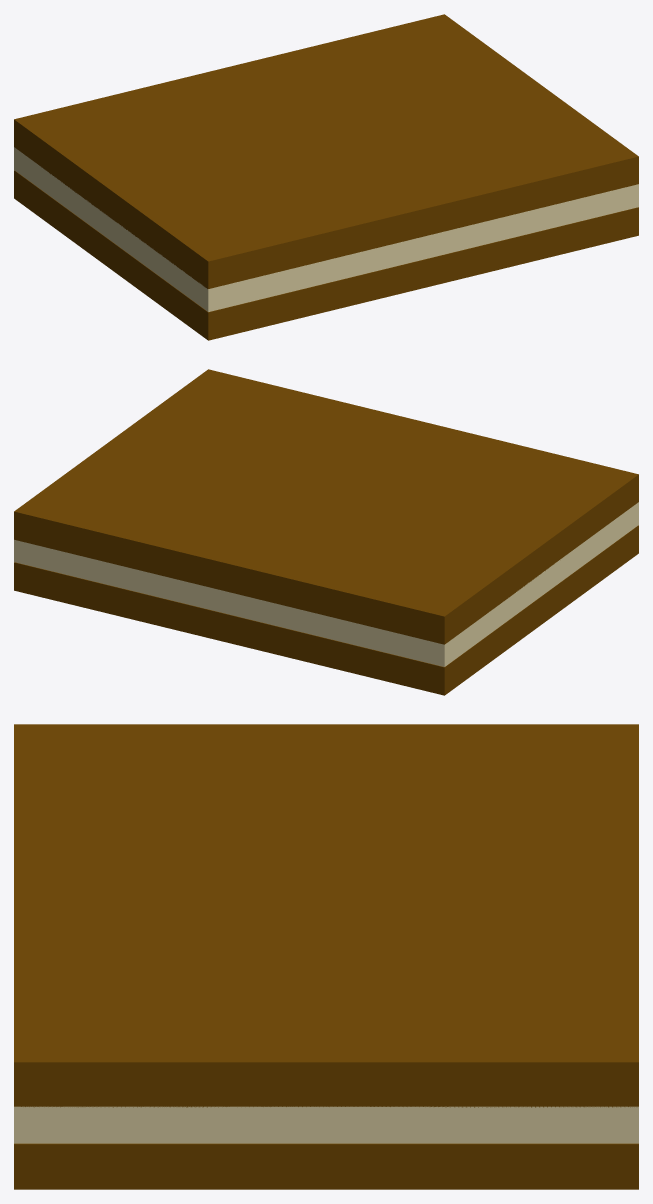
The model's file is book1.glb.
The picture shows the model from 3 angles, top to bottom: view 1: azimuth 30°, elevation 25°; view 2: azimuth 150°, elevation 25°; view 3: azimuth 270°, elevation 25°; orthographic projection. The views are drawn at different scales.
Visible parts, largest first — view 1: Cube.003, Cube, Cube.001, Cube.002; view 2: Cube.003, Cube, Cube.001, Cube.002; view 3: Cube.003, Cube, Cube.001, Cube.002.
Boxes of the visible parts, x1=… form: Cube.003: x1=14, y1=14, x2=638, y2=288; Cube: x1=14, y1=170, x2=638, y2=340; Cube.001: x1=14, y1=158, x2=638, y2=311; Cube.002: x1=14, y1=147, x2=638, y2=300; Cube.003: x1=14, y1=369, x2=638, y2=644; Cube: x1=14, y1=525, x2=638, y2=695; Cube.001: x1=14, y1=514, x2=638, y2=666; Cube.002: x1=14, y1=502, x2=638, y2=655; Cube.003: x1=14, y1=724, x2=638, y2=1107; Cube: x1=14, y1=1143, x2=638, y2=1189; Cube.001: x1=14, y1=1125, x2=638, y2=1143; Cube.002: x1=14, y1=1106, x2=638, y2=1124.
Size of the model in its own units: 3.49 by 0.6128 by 2.73.
